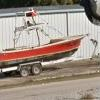Boat: (2, 17, 93, 76)
